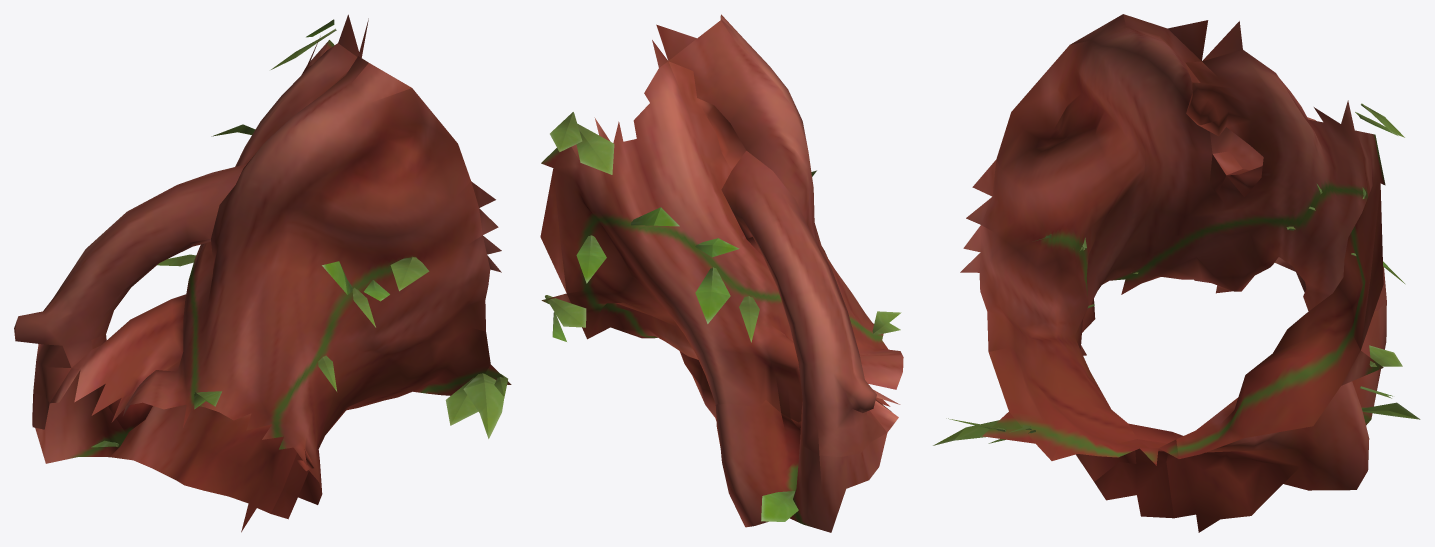
Rendered from torchwood_brazo_der.obj.
3 views of the same model, side by side, from view 1: azimuth 30°, elevation 25°; view 2: azimuth 150°, elevation 25°; view 3: azimuth 270°, elevation 25° (orthographic). The views are drawn at different scales.
Parts seen in each view (by area): view 1: torchwood_brazo_der; view 2: torchwood_brazo_der; view 3: torchwood_brazo_der.
Boxes of the visible parts, x1=… form: torchwood_brazo_der: x1=14, y1=14, x2=511, y2=532; torchwood_brazo_der: x1=540, y1=14, x2=903, y2=532; torchwood_brazo_der: x1=933, y1=14, x2=1420, y2=532.
Size of the model in its own units: 0.7304 by 0.9635 by 0.7207.
